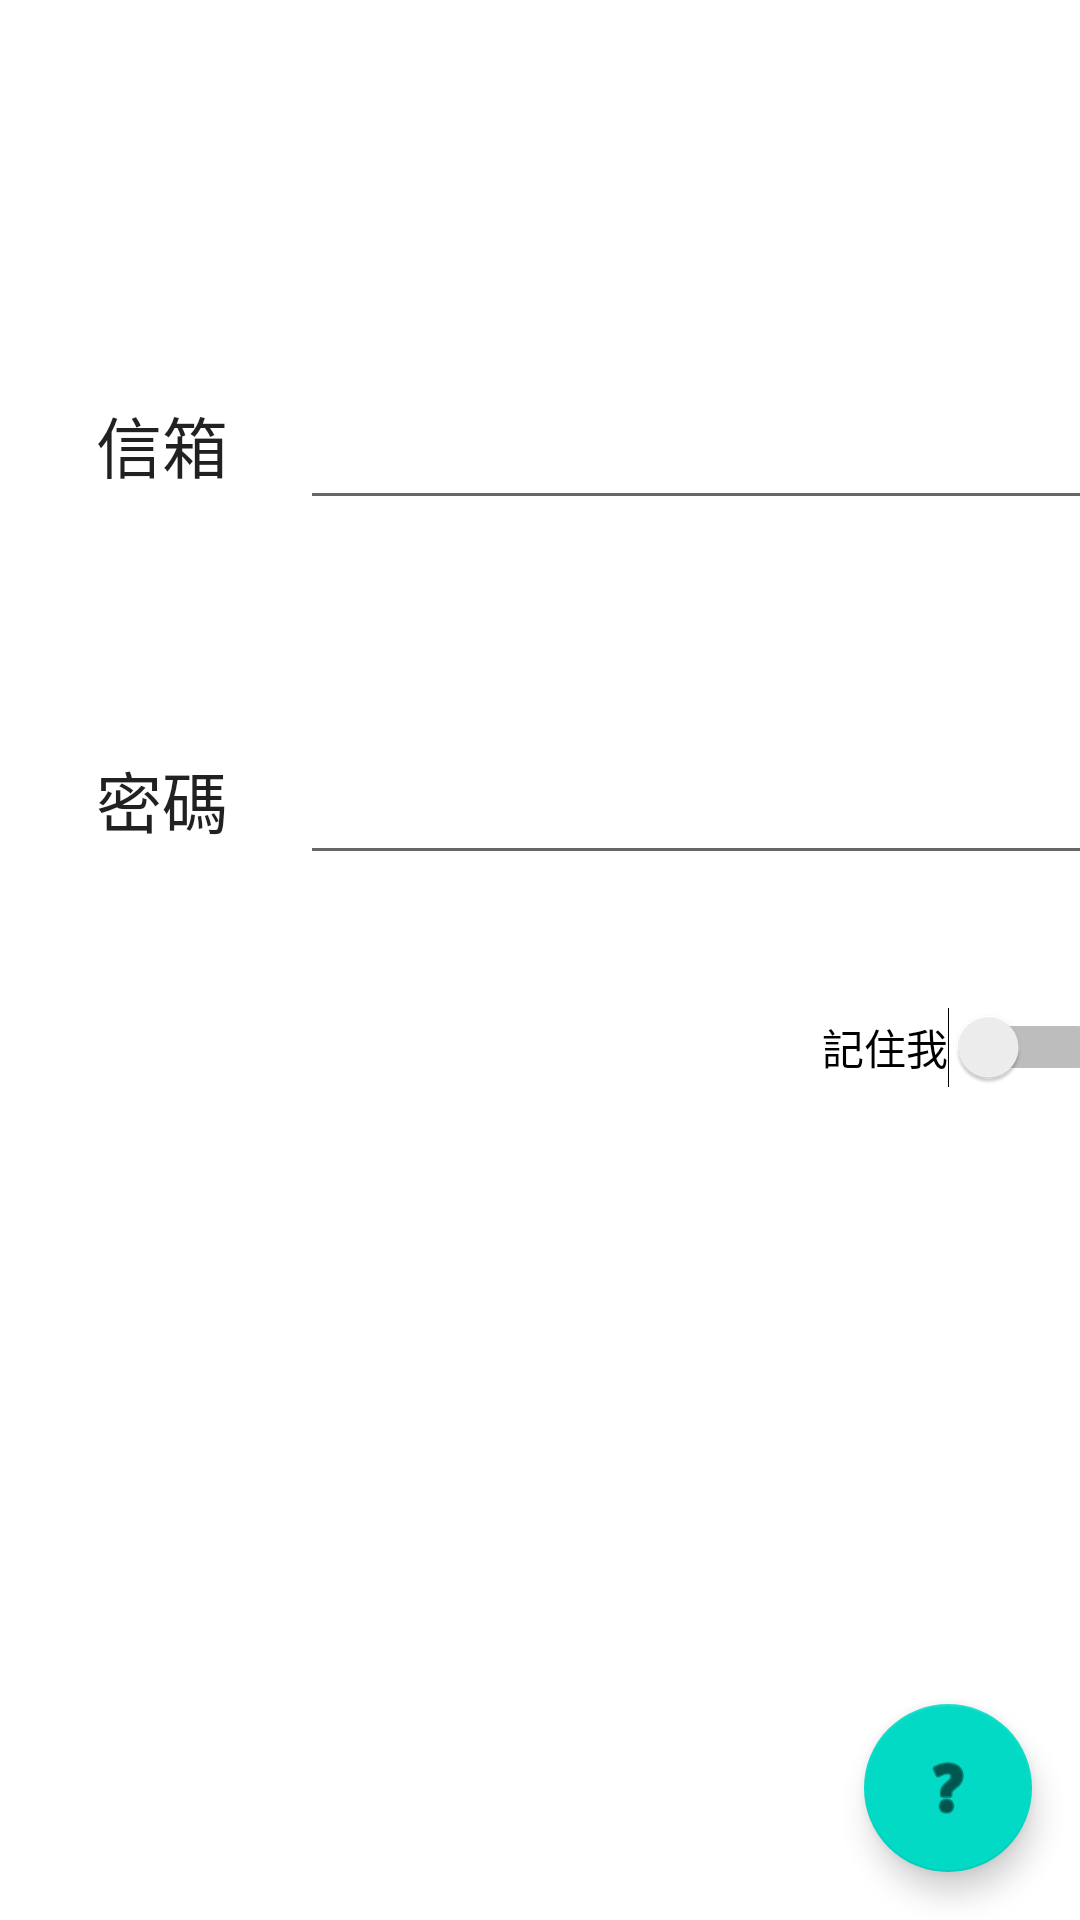

Named icons in this screenshot (1080px x 1920px) and their bounding boxes, (x1, y1, x2, y2):
helper: (864, 1704, 1032, 1872)
